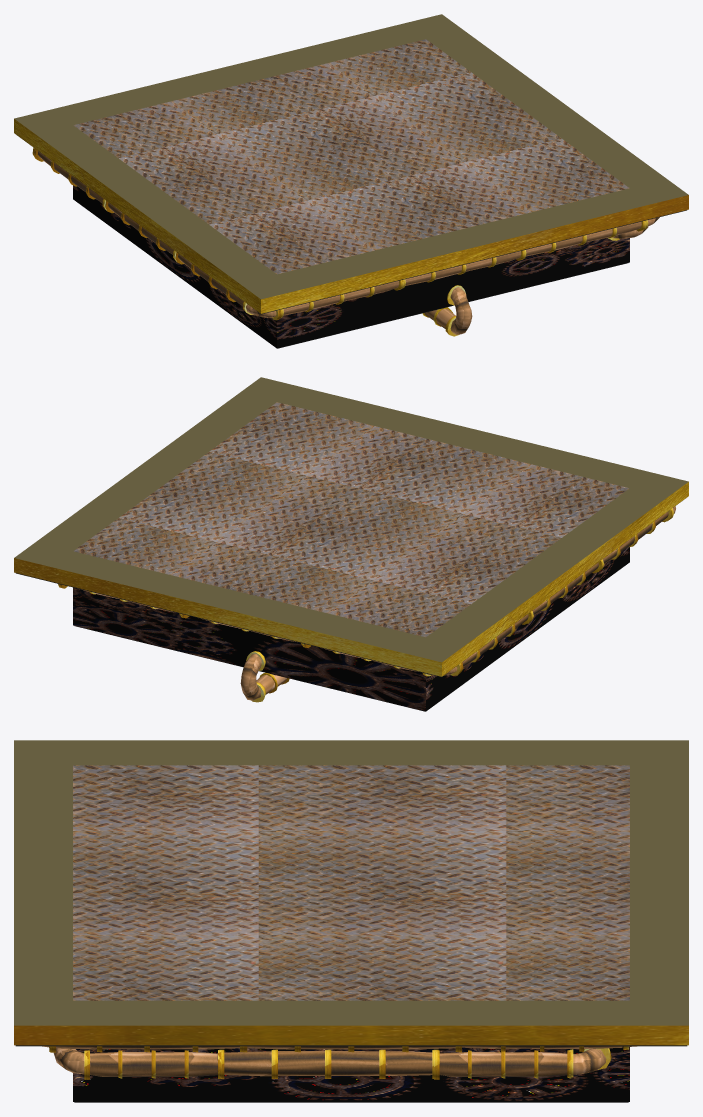
The model's file is Floating Platform.fbx.
The picture shows the model from 3 angles, top to bottom: view 1: azimuth 30°, elevation 25°; view 2: azimuth 150°, elevation 25°; view 3: azimuth 270°, elevation 25°; orthographic projection. The views are drawn at different scales.
Visible parts, largest first — view 1: pCube1, pCube2, pCylinder119, pCylinder125, pCylinder19, pTorus1; view 2: pCube1, pCube2, pTorus7; view 3: pCube1, pCylinder2, pCylinder122, pCylinder111, pCube2, pCylinder135, pTorus2, pTorus1, pCylinder9.
Part boxes in pixels (x1=…): pCube1: x1=14, y1=14, x2=688, y2=348; pCube2: x1=25, y1=141, x2=686, y2=348; pCylinder119: x1=283, y1=281, x2=399, y2=315; pCylinder125: x1=525, y1=221, x2=641, y2=256; pCylinder19: x1=405, y1=251, x2=521, y2=285; pTorus1: x1=450, y1=287, x2=472, y2=334; pCube1: x1=14, y1=377, x2=688, y2=711; pCube2: x1=16, y1=504, x2=677, y2=711; pTorus7: x1=240, y1=654, x2=261, y2=700; pCube1: x1=14, y1=740, x2=688, y2=1101; pCylinder2: x1=217, y1=1051, x2=432, y2=1076; pCylinder122: x1=439, y1=1051, x2=567, y2=1076; pCylinder111: x1=90, y1=1051, x2=217, y2=1076; pCube2: x1=15, y1=1045, x2=687, y2=1102; pCylinder135: x1=247, y1=1046, x2=455, y2=1049; pTorus2: x1=573, y1=1049, x2=606, y2=1074; pTorus1: x1=53, y1=1048, x2=90, y2=1074; pCylinder9: x1=49, y1=1046, x2=239, y2=1049.
Size of what is drawn, in the model's own units: 1.22 by 0.3492 by 1.21.
